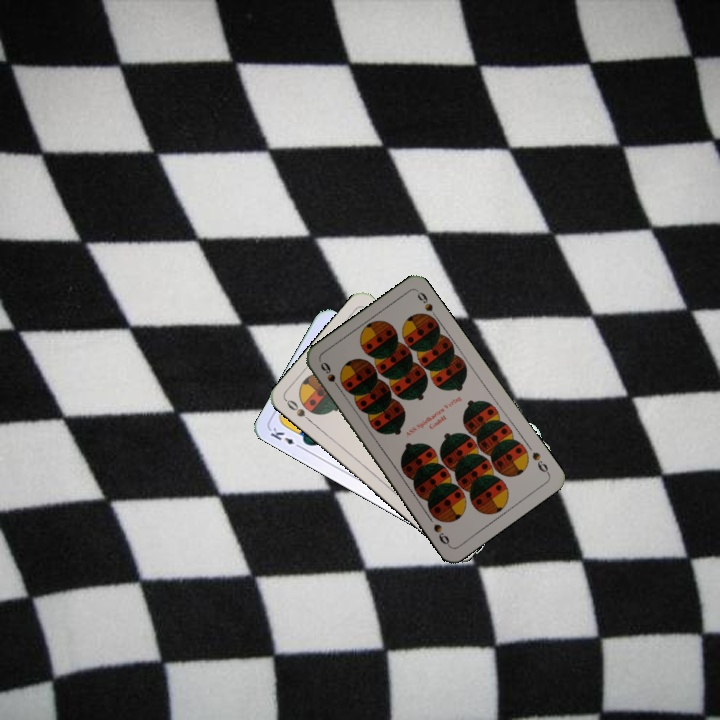EK: (266, 423, 305, 451)
S9: (316, 358, 344, 394), (528, 448, 552, 477)
SO: (282, 396, 316, 427)
